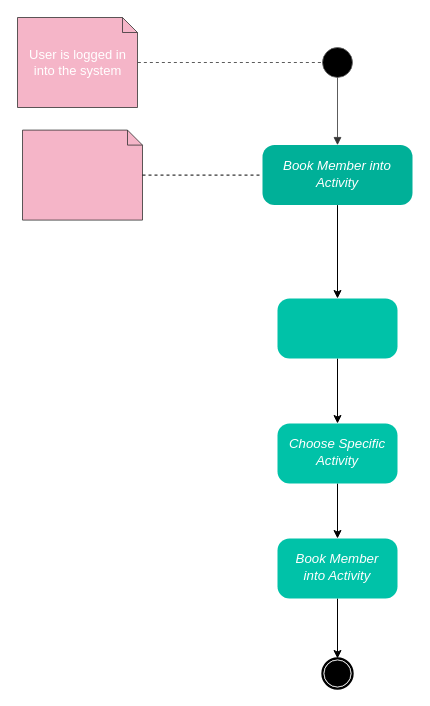
Image size: 430x706. Some labels were removed from this diagram. The box of each missing label's shape, as (x1, y1, x2, y2) in pixels:
Action: (22, 129, 142, 220)
Choose Specific Member: (277, 298, 397, 358)
